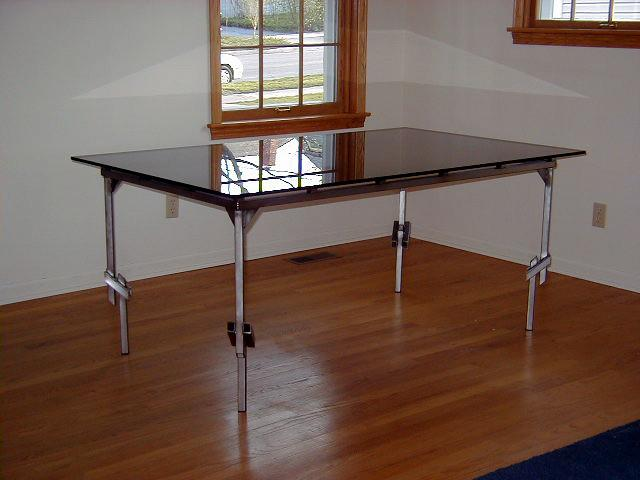table: (66, 124, 592, 419)
